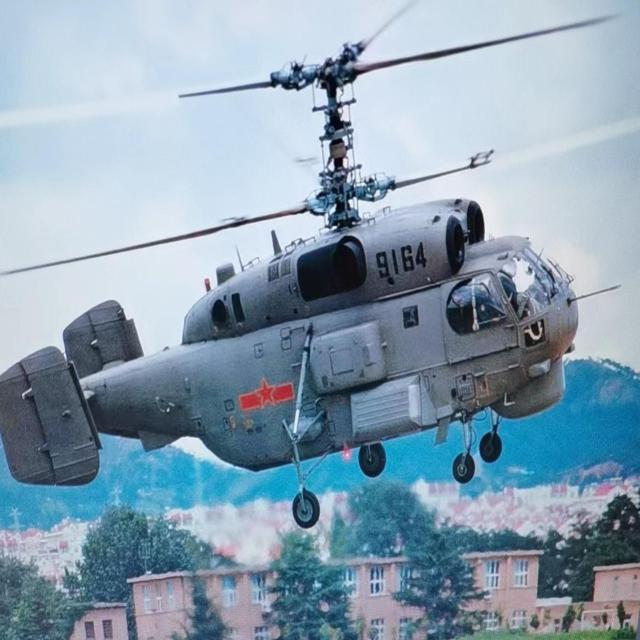MIL_HELO: (0, 2, 640, 530)
